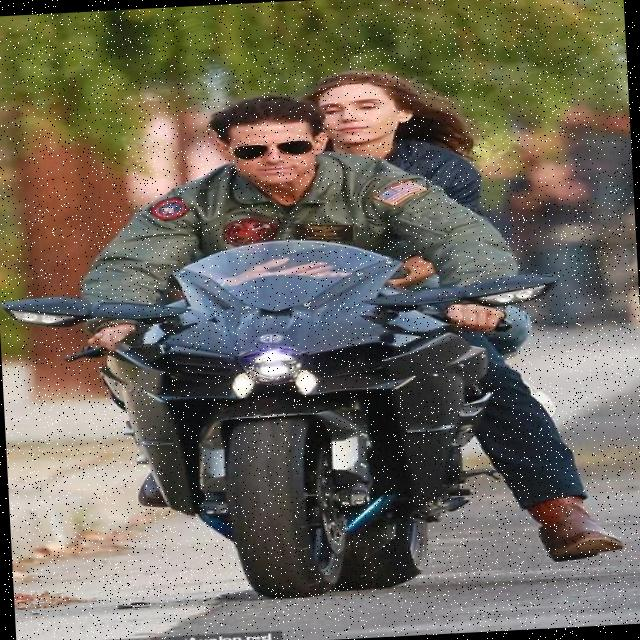No helmet: (206, 100, 342, 198)
